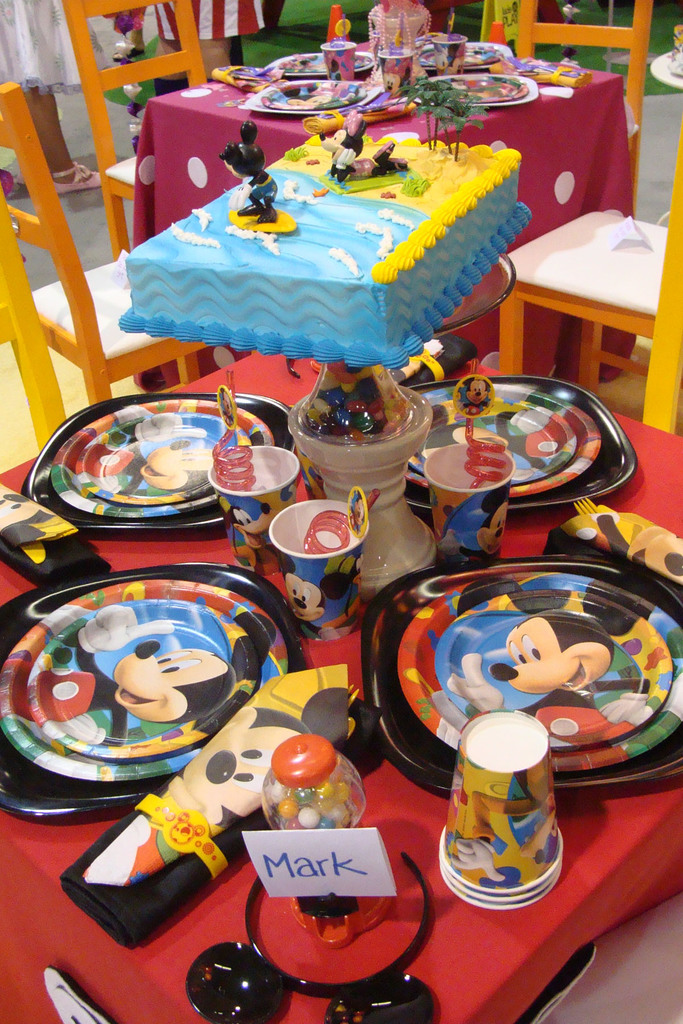plate: (4, 577, 297, 798)
